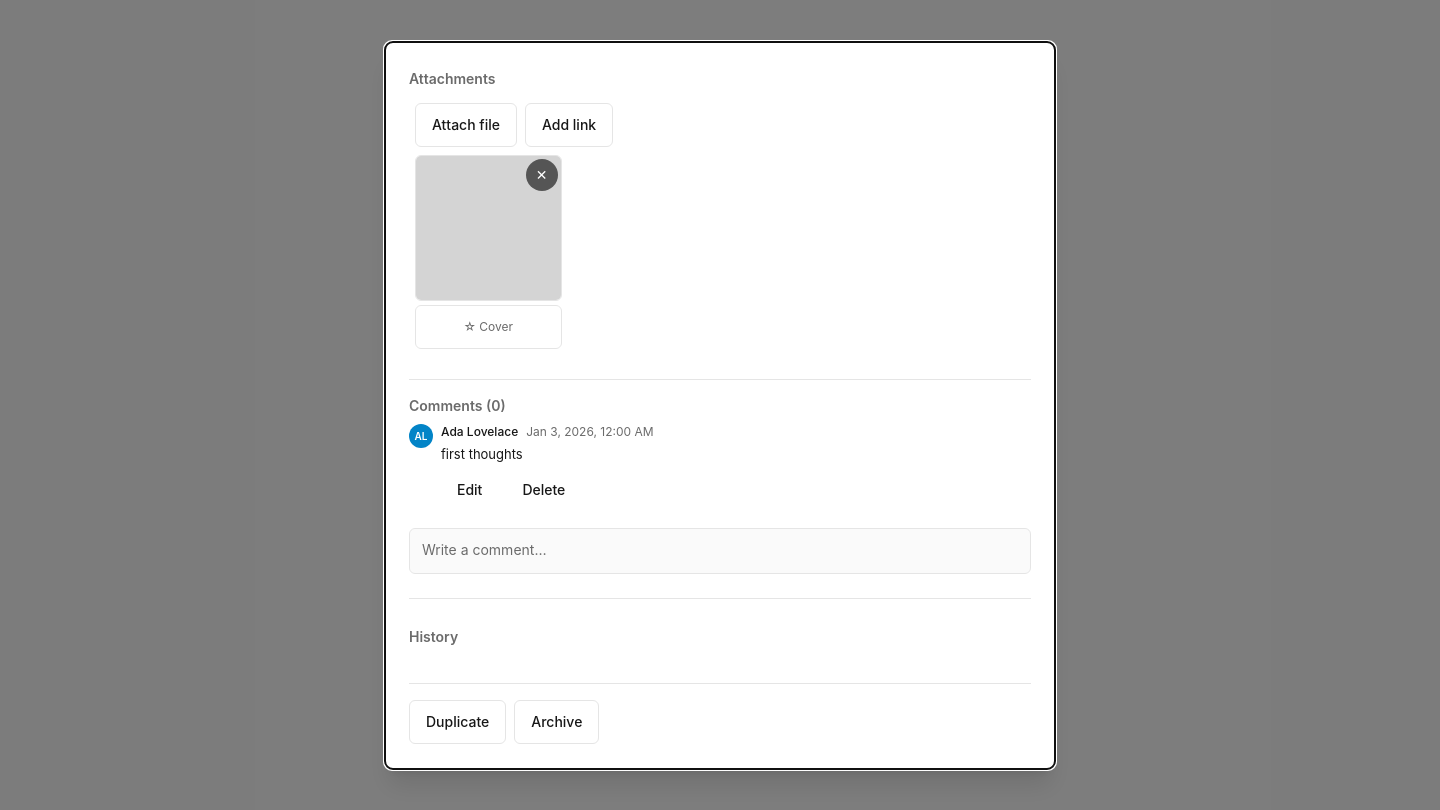
TaskDetail › leaves the activity log unfetched until History is opened
The image size is (1440, 810).
(page scrolled)
Click the heading "History" at (434, 637), box [409, 628, 458, 645]
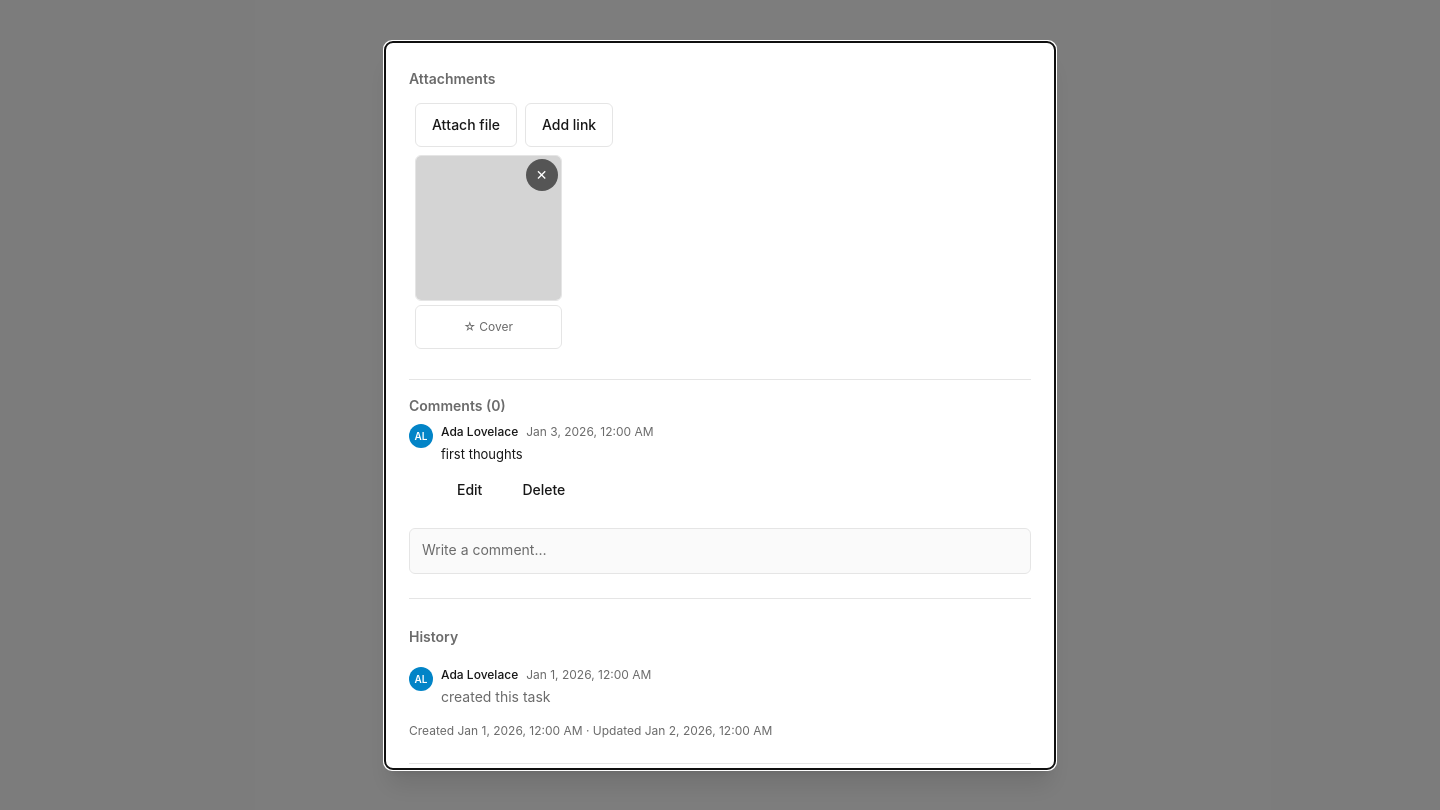
Result: the text "created this task" is shown at [441, 688, 550, 705]
